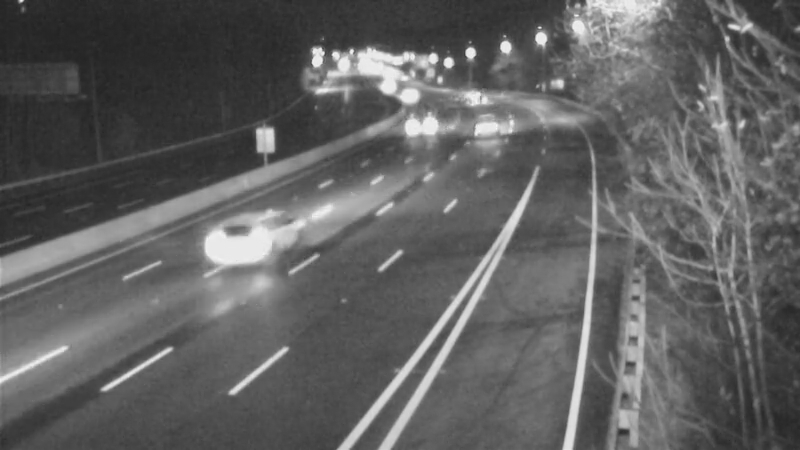vehicle: (196, 199, 276, 279), (384, 73, 434, 123), (448, 70, 498, 120), (453, 77, 503, 127), (459, 96, 509, 146), (394, 97, 444, 147)
